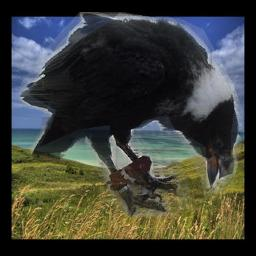Crow: (19, 12, 243, 218)
